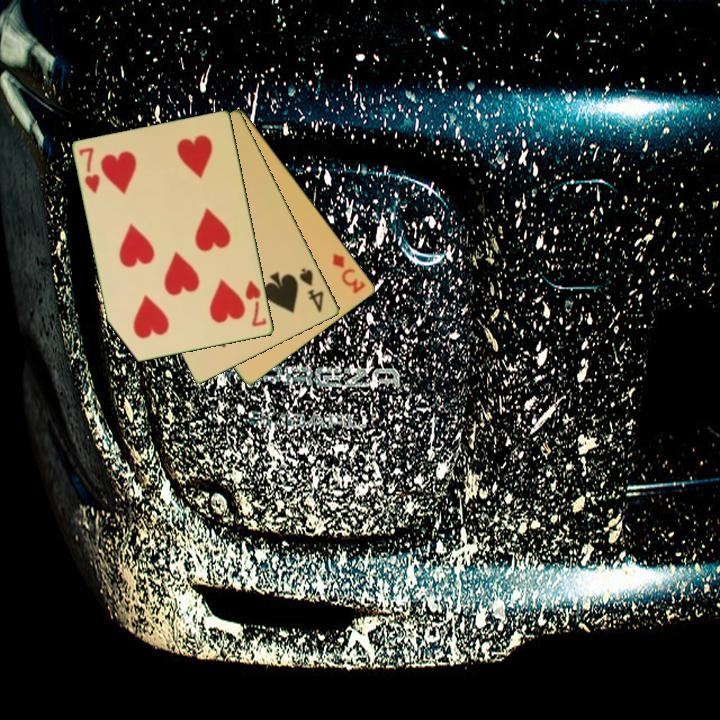3d: (329, 250, 369, 296)
4s: (296, 264, 327, 316)
7h: (242, 276, 270, 330), (76, 144, 103, 197)
